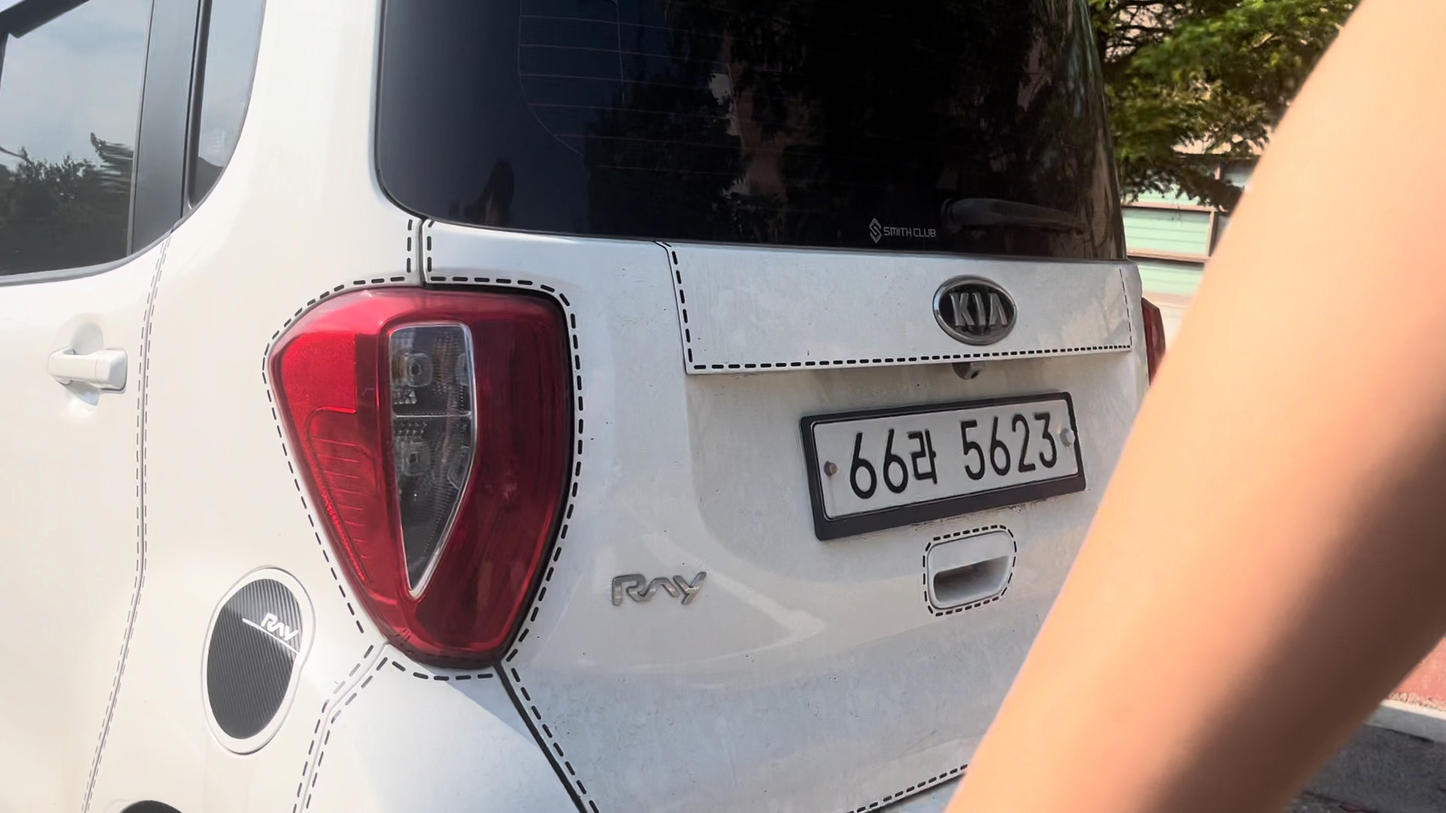car_emblem: (933, 277, 1015, 345)
door_handle: (47, 349, 127, 390)
fuel_cap: (200, 572, 313, 749)
license_plate: (801, 393, 1084, 539)
tail_light: (268, 289, 569, 663), (1140, 297, 1166, 380)
